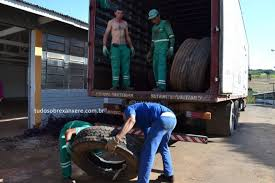tire: (67, 126, 147, 183), (167, 36, 200, 91), (188, 35, 218, 92)
